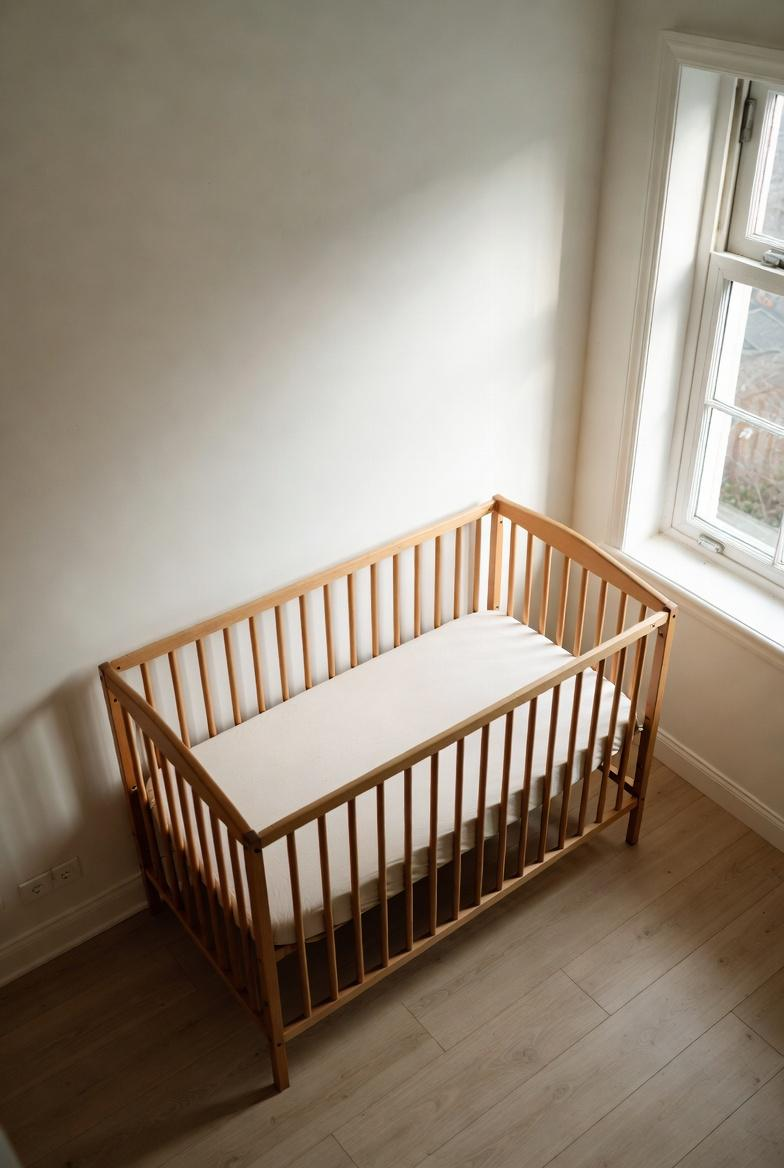crib: (85, 487, 698, 1097)
